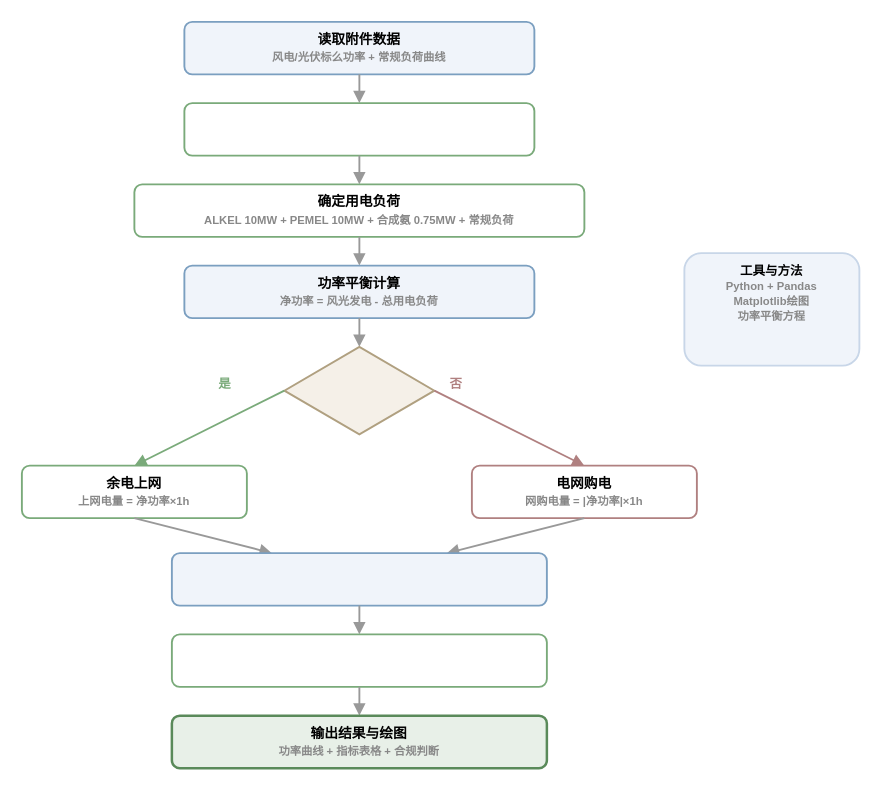
This 883x791 diagram has some shape labels left out. The shapes that lost their labels are listed below. From the top down, each one's centre as x and y in pixels, then its label:
At [359,129]: "计算实际功率 风电=40MW×标么 光伏=64MW×标么".
At [359,390]: "净功率 > 0 ?".
At [358,579]: "计算绿电直连指标 自用比例 / 绿电比例 / 上网比例".
At [358,660]: "计算吨氨成本 (购电费用 - 售电收入) / 日产氨量".
